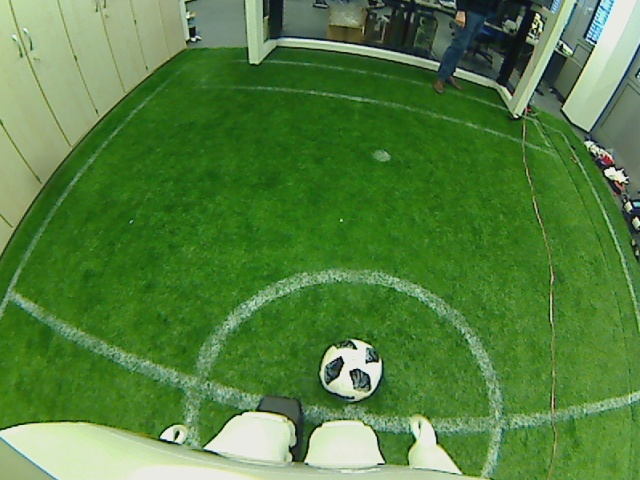ball: (317, 338, 382, 399)
